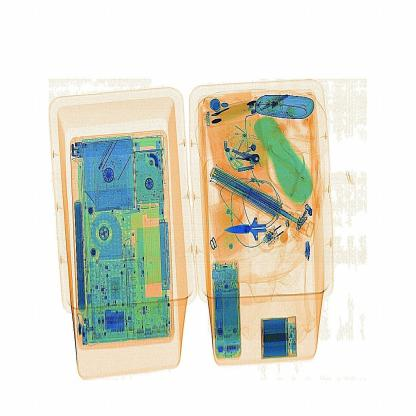gun: (217, 194, 284, 256)
